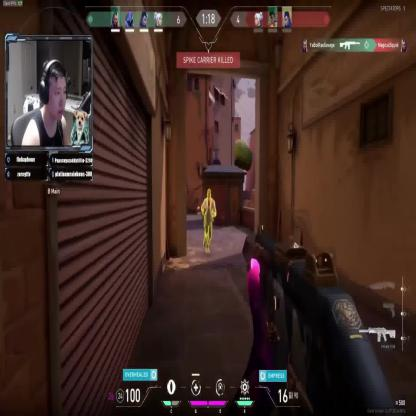enemy: (200, 188, 217, 254)
enemy_head: (206, 188, 212, 199)
